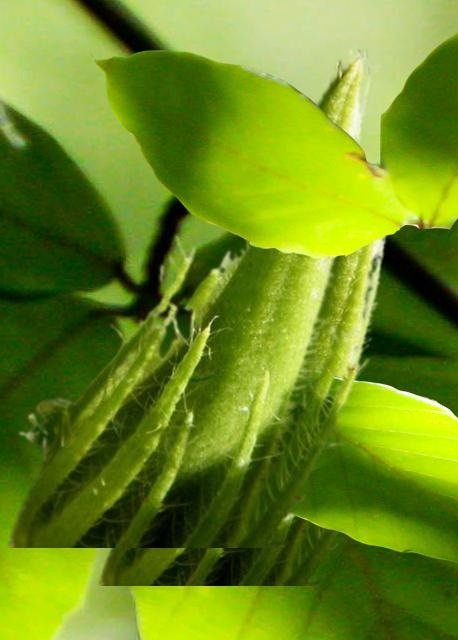okra: (2, 42, 380, 546), (94, 236, 388, 584)
